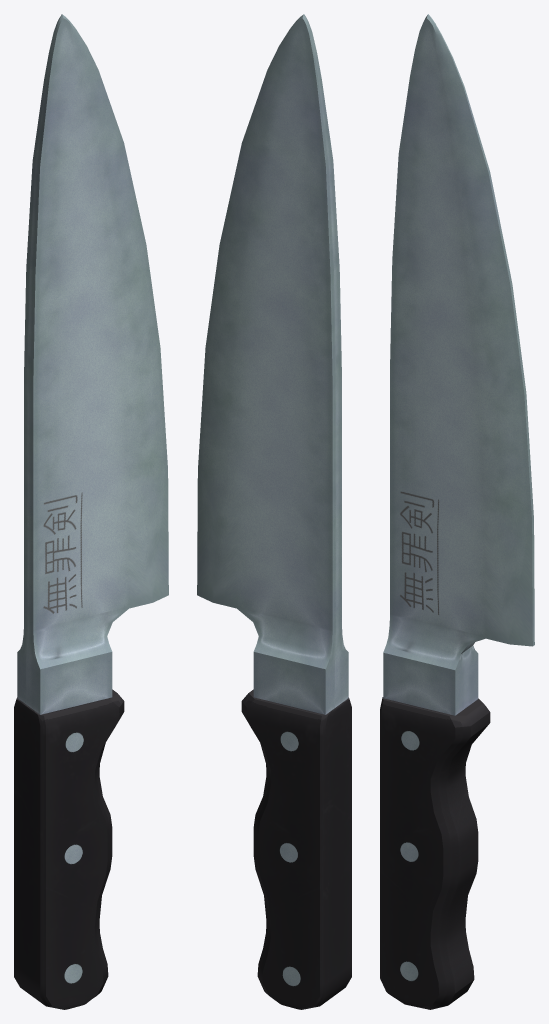
Rendered from kitchen_knife_02.glb.
The picture shows the model from 3 angles, left to right: view 1: azimuth 30°, elevation 25°; view 2: azimuth 150°, elevation 25°; view 3: azimuth 330°, elevation 25°; orthographic projection.
Parts seen in each view (by area): view 1: blade, handle; view 2: blade, handle; view 3: blade, handle.
Part boxes in pixels (left/top/right/bottom): blade: left=17, top=14, right=168, bottom=714; handle: left=14, top=689, right=124, bottom=1009; blade: left=197, top=14, right=348, bottom=714; handle: left=241, top=689, right=351, bottom=1009; blade: left=383, top=14, right=534, bottom=715; handle: left=380, top=697, right=490, bottom=1009.
Bounding box in the file's own units: 0.0416 × 0.2782 × 0.0155.
2 materials, 2 textured.
